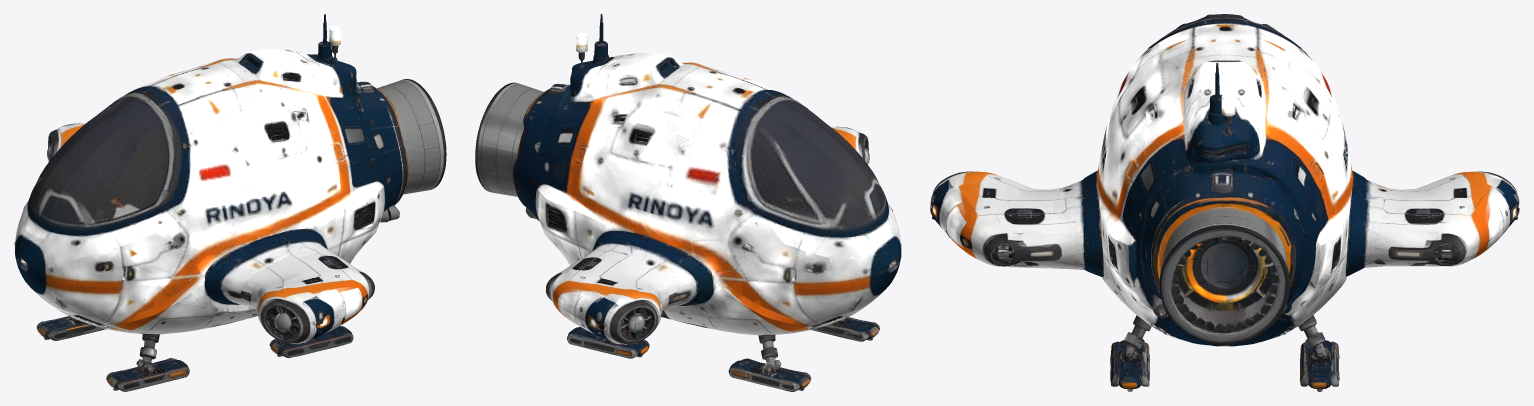
File: rinoya-1.glb
3 views of the same model, side by side, from view 1: azimuth 30°, elevation 25°; view 2: azimuth 150°, elevation 25°; view 3: azimuth 270°, elevation 25° (orthographic). The views are drawn at different scales.
Visible parts, largest first — view 1: Mesh_0; view 2: Mesh_0; view 3: Mesh_0.
Part boxes in pixels (x1=…): Mesh_0: x1=14, y1=14, x2=446, y2=391; Mesh_0: x1=475, y1=14, x2=901, y2=391; Mesh_0: x1=930, y1=14, x2=1519, y2=391.
Bounding box in the file's own units: 1.7 × 1.2 × 1.9.
1 material, 1 textured.
